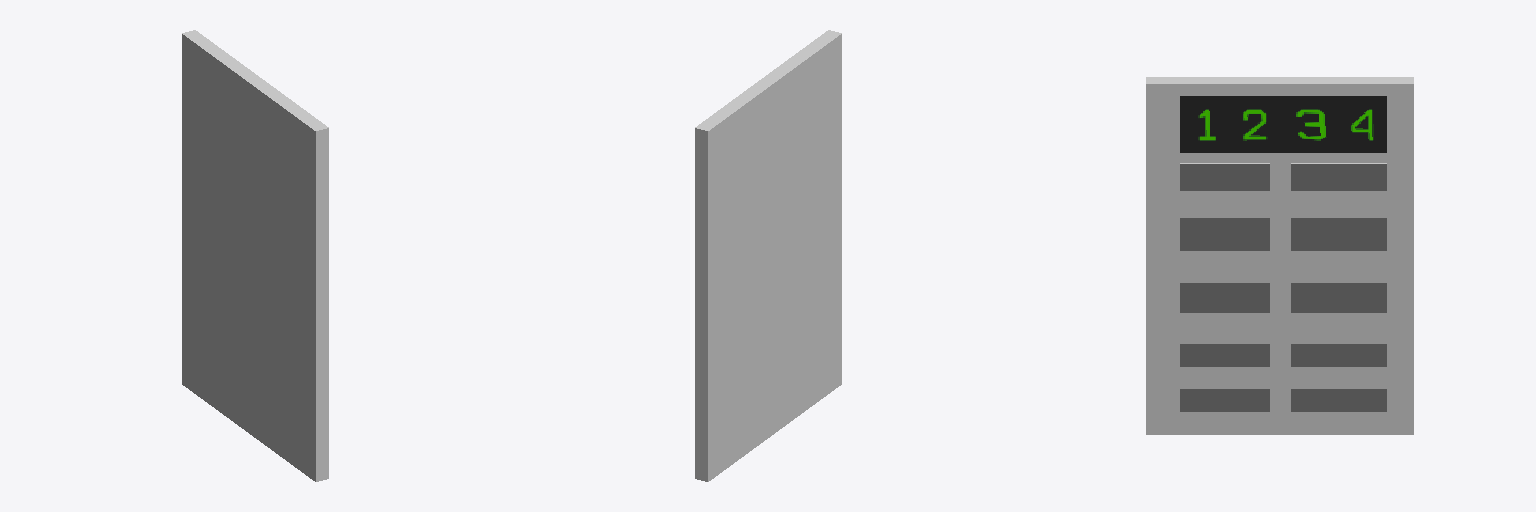
The picture shows the model from 3 angles: view 1: azimuth 30°, elevation 25°; view 2: azimuth 150°, elevation 25°; view 3: azimuth 270°, elevation 25°; orthographic projection.
Visible parts, largest first — view 1: Cube; view 2: Cube; view 3: Cube.
Part boxes in pixels (x1,y1,x2,y2): Cube: (182, 30, 328, 481); Cube: (695, 30, 841, 481); Cube: (1146, 77, 1413, 434).
Bounding box in the file's own units: 0.1269 × 2.89 × 2.
1 materials, 1 textured.